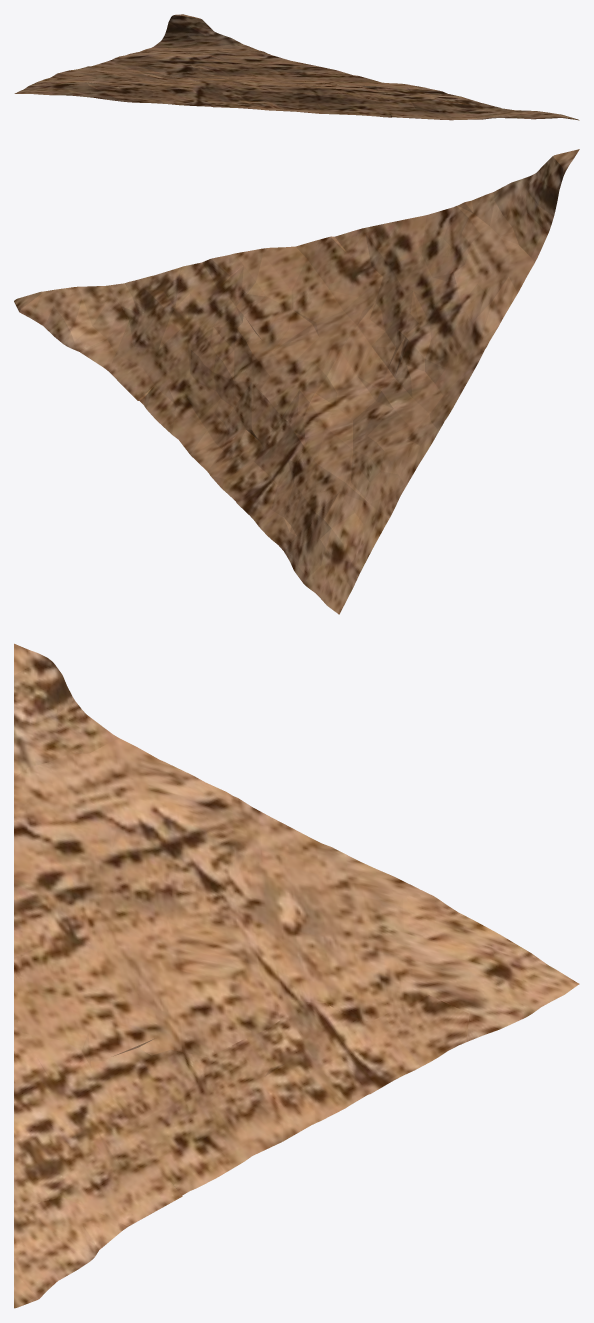
3 renders of one model, top to bottom at view 1: azimuth 30°, elevation 25°; view 2: azimuth 150°, elevation 25°; view 3: azimuth 270°, elevation 25°, orthographic. The views are drawn at different scales.
Size of the model in its own units: 0.7684 by 0.376 by 0.5664.
1 material, 1 textured.
